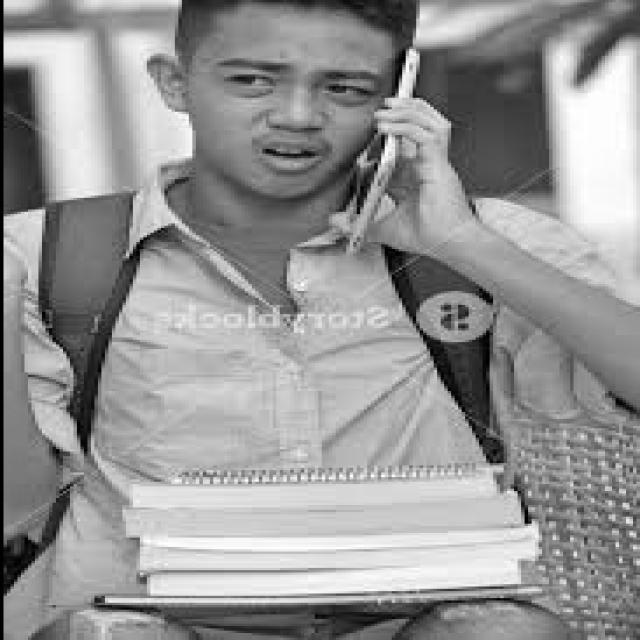phone: (286, 33, 462, 258)
